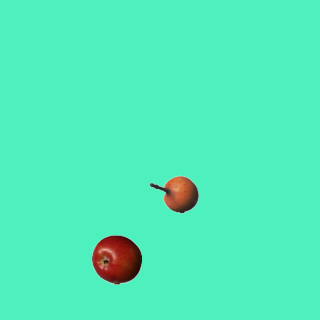Apple Braeburn: (91, 234, 141, 284)
Granadilla: (148, 169, 198, 219)
